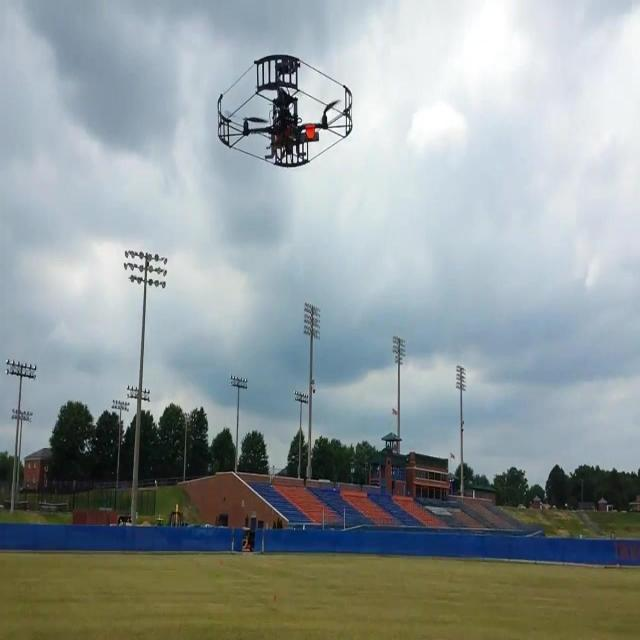UAV: (217, 54, 353, 169)
